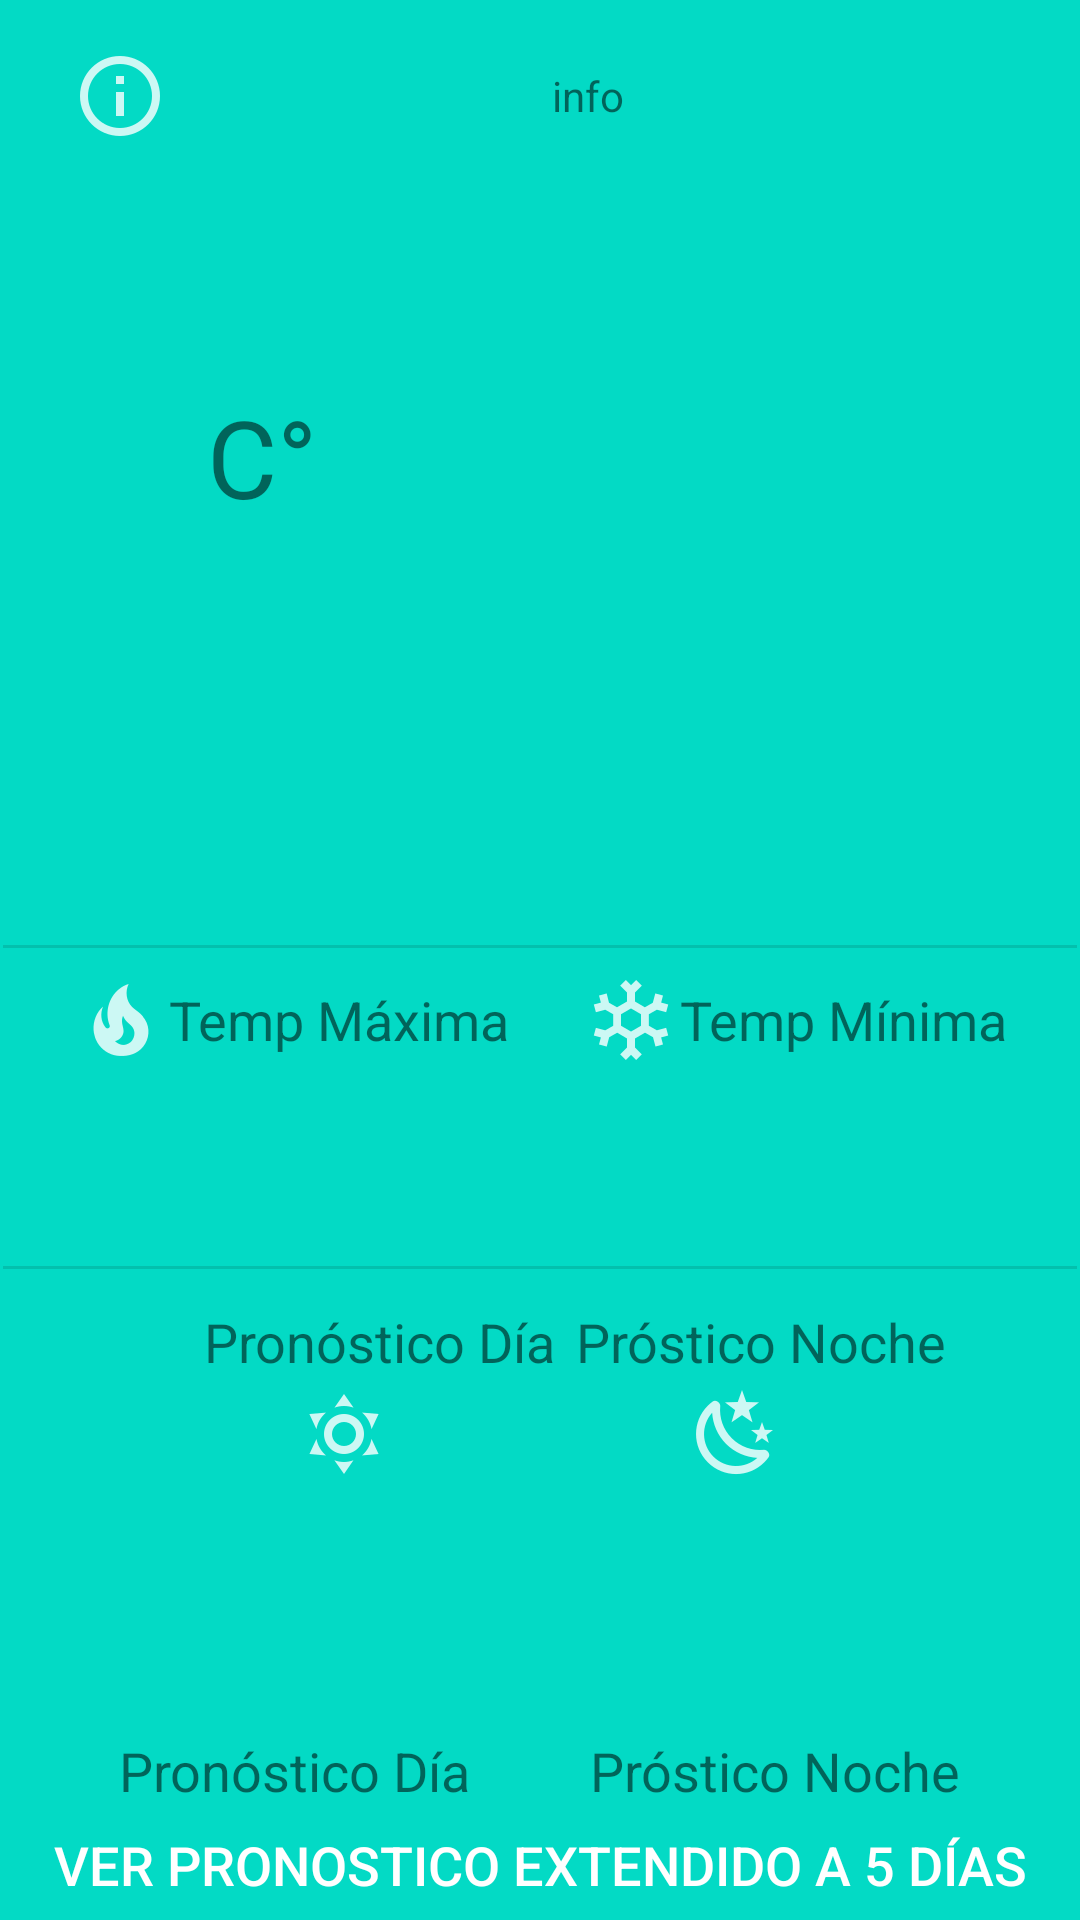

Where icons sit on this 1080w x 1920h app screen, as (x1, y1, x2, y2):
weather night: (696, 1390, 773, 1474)
weather sunny: (309, 1394, 379, 1474)
